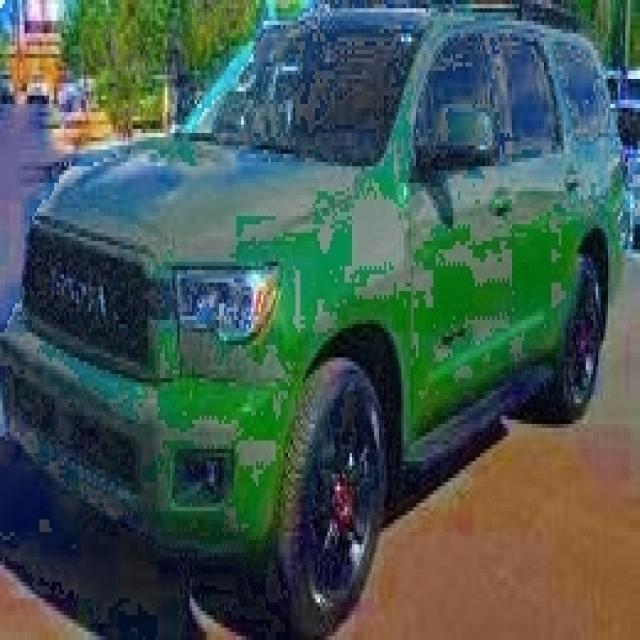green: (0, 0, 633, 632)
